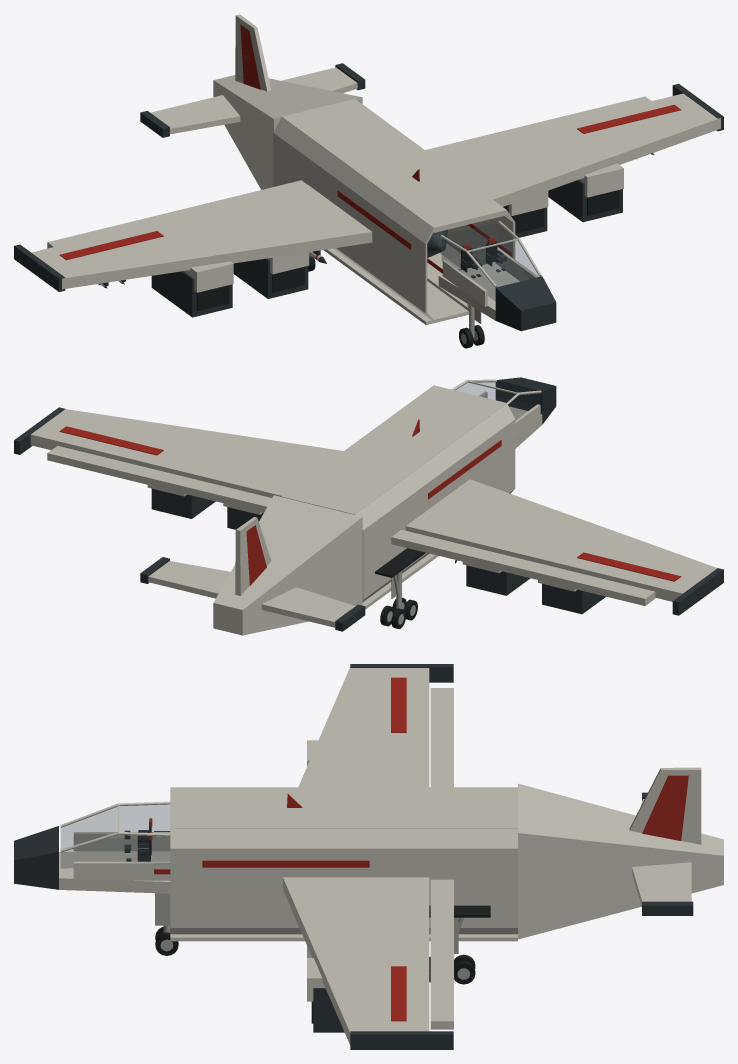
The picture shows the model from 3 angles, top to bottom: view 1: azimuth 30°, elevation 25°; view 2: azimuth 150°, elevation 25°; view 3: azimuth 270°, elevation 25°; orthographic projection. The views are drawn at different scales.
Visible parts, largest first — view 1: bomber-painted, bomber-glazing, bomber-bay-door-left-painted, flap-left-painted, flap-right-painted, crew-seating-batch-painted, bomber-bay-door-right-painted; view 2: bomber-painted, flap-left-painted, flap-right-painted, bomber-glazing, bomber-bay-door-left-painted, breakaway-0-painted; view 3: bomber-painted, bomber-glazing, flap-right-painted, flap-left-painted, bomber-bay-door-right-painted, breakaway-1-painted, crew-seating-batch-painted.
Part boxes in pixels (bbox=[...]): bomber-painted: bbox=[14, 14, 723, 331]; bomber-glazing: bbox=[442, 222, 539, 300]; bomber-bay-door-left-painted: bbox=[323, 248, 468, 324]; flap-left-painted: bbox=[47, 180, 307, 248]; flap-right-painted: bbox=[425, 96, 651, 154]; crew-seating-batch-painted: bbox=[460, 238, 507, 278]; bomber-bay-door-right-painted: bbox=[427, 253, 468, 310]; bomber-painted: bbox=[14, 377, 723, 635]; flap-left-painted: bbox=[391, 529, 655, 605]; flap-right-painted: bbox=[47, 445, 271, 512]; bomber-glazing: bbox=[456, 381, 540, 420]; bomber-bay-door-left-painted: bbox=[362, 553, 438, 609]; breakaway-0-painted: bbox=[335, 604, 365, 631]; bomber-painted: bbox=[14, 664, 723, 1049]; bomber-glazing: bbox=[61, 804, 169, 868]; flap-right-painted: bbox=[430, 879, 453, 1029]; flap-left-painted: bbox=[430, 688, 453, 787]; bomber-bay-door-right-painted: bbox=[170, 934, 517, 941]; breakaway-1-painted: bbox=[642, 901, 693, 915]; crew-seating-batch-painted: bbox=[124, 818, 152, 861].
Size of the model in its own units: 195 by 44.83 by 158.
